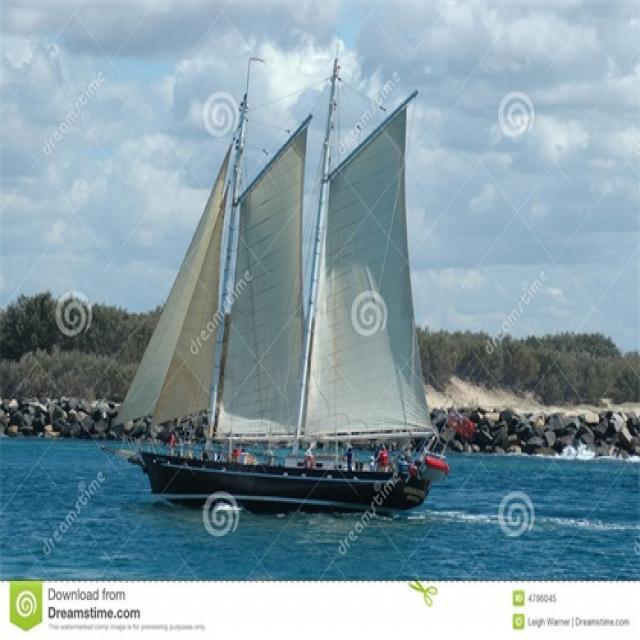Ship: (125, 72, 437, 512)
